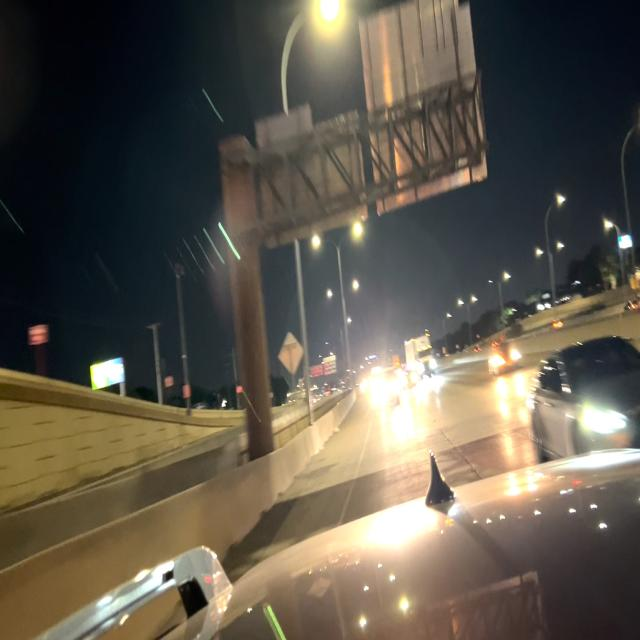back-of-sign: (254, 0, 477, 250), (276, 330, 303, 381)
